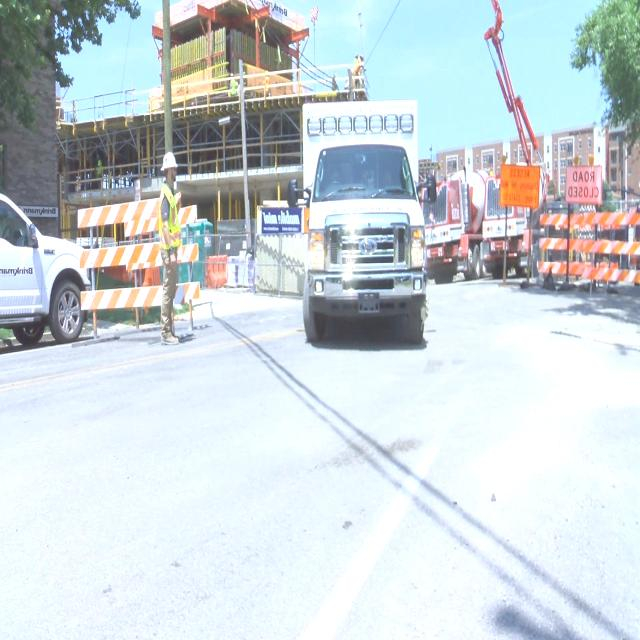head_helmet: (163, 153, 179, 168)
person: (159, 152, 185, 344), (262, 67, 273, 99), (357, 55, 366, 78), (226, 76, 235, 98), (352, 52, 358, 74)
vest: (160, 190, 179, 247)
